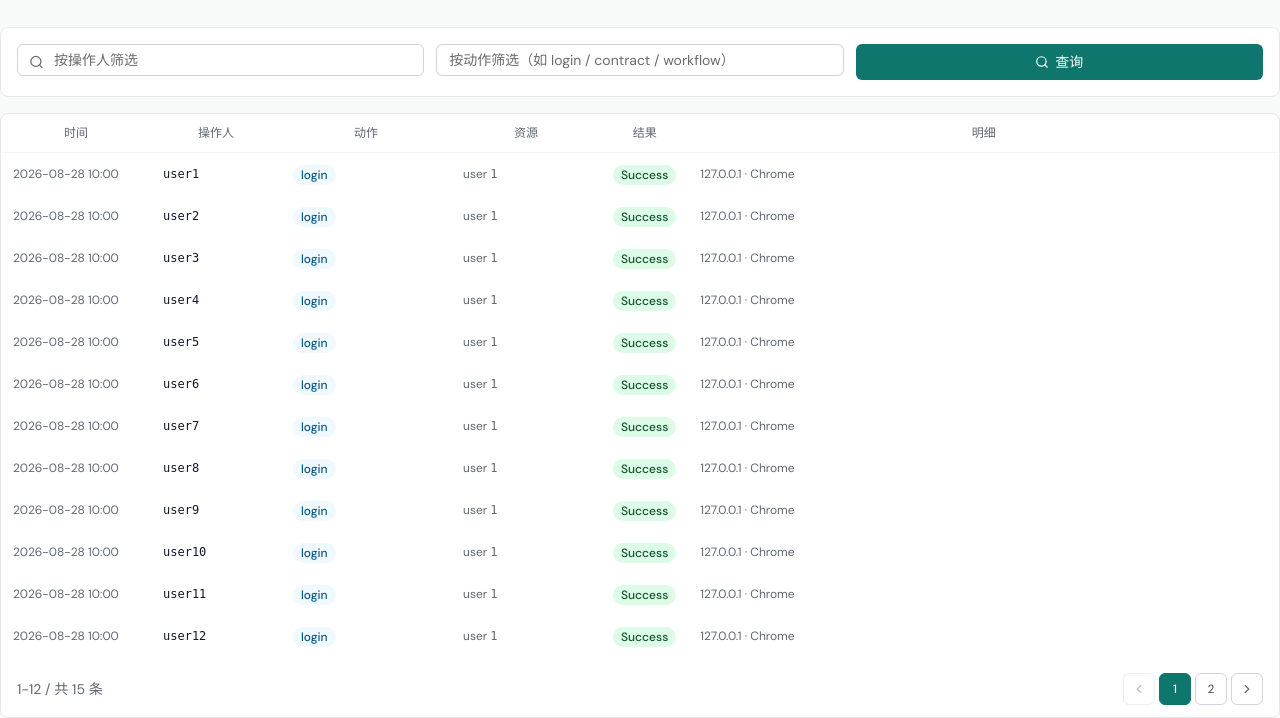
AuditLogView › 超过一页时分页展示
(page scrolled)
What coordinates should you click on to do the following:
click the button "2"
I would click on:
 (1211, 689)
Its box is [1195, 673, 1227, 705].
(page scrolled)
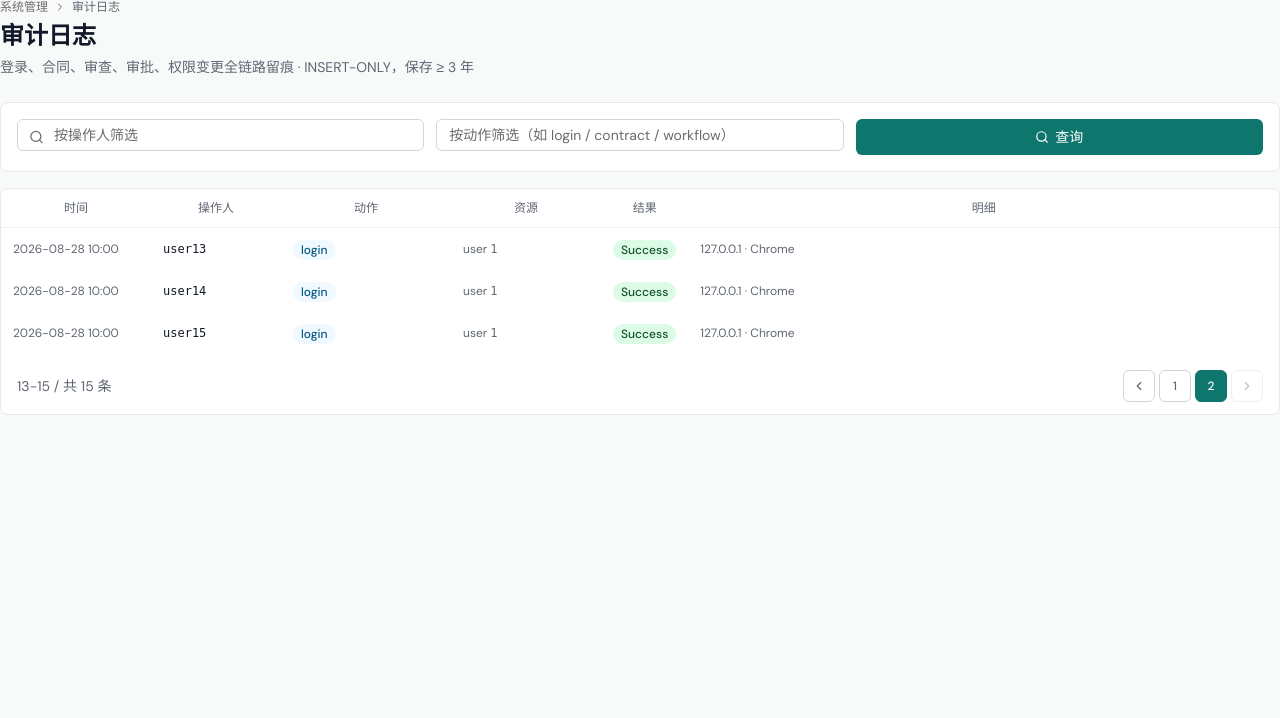
Result: the text "user13" is shown at [163, 242, 206, 256]
